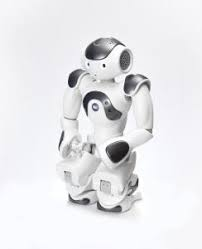nao: (41, 29, 165, 219)
